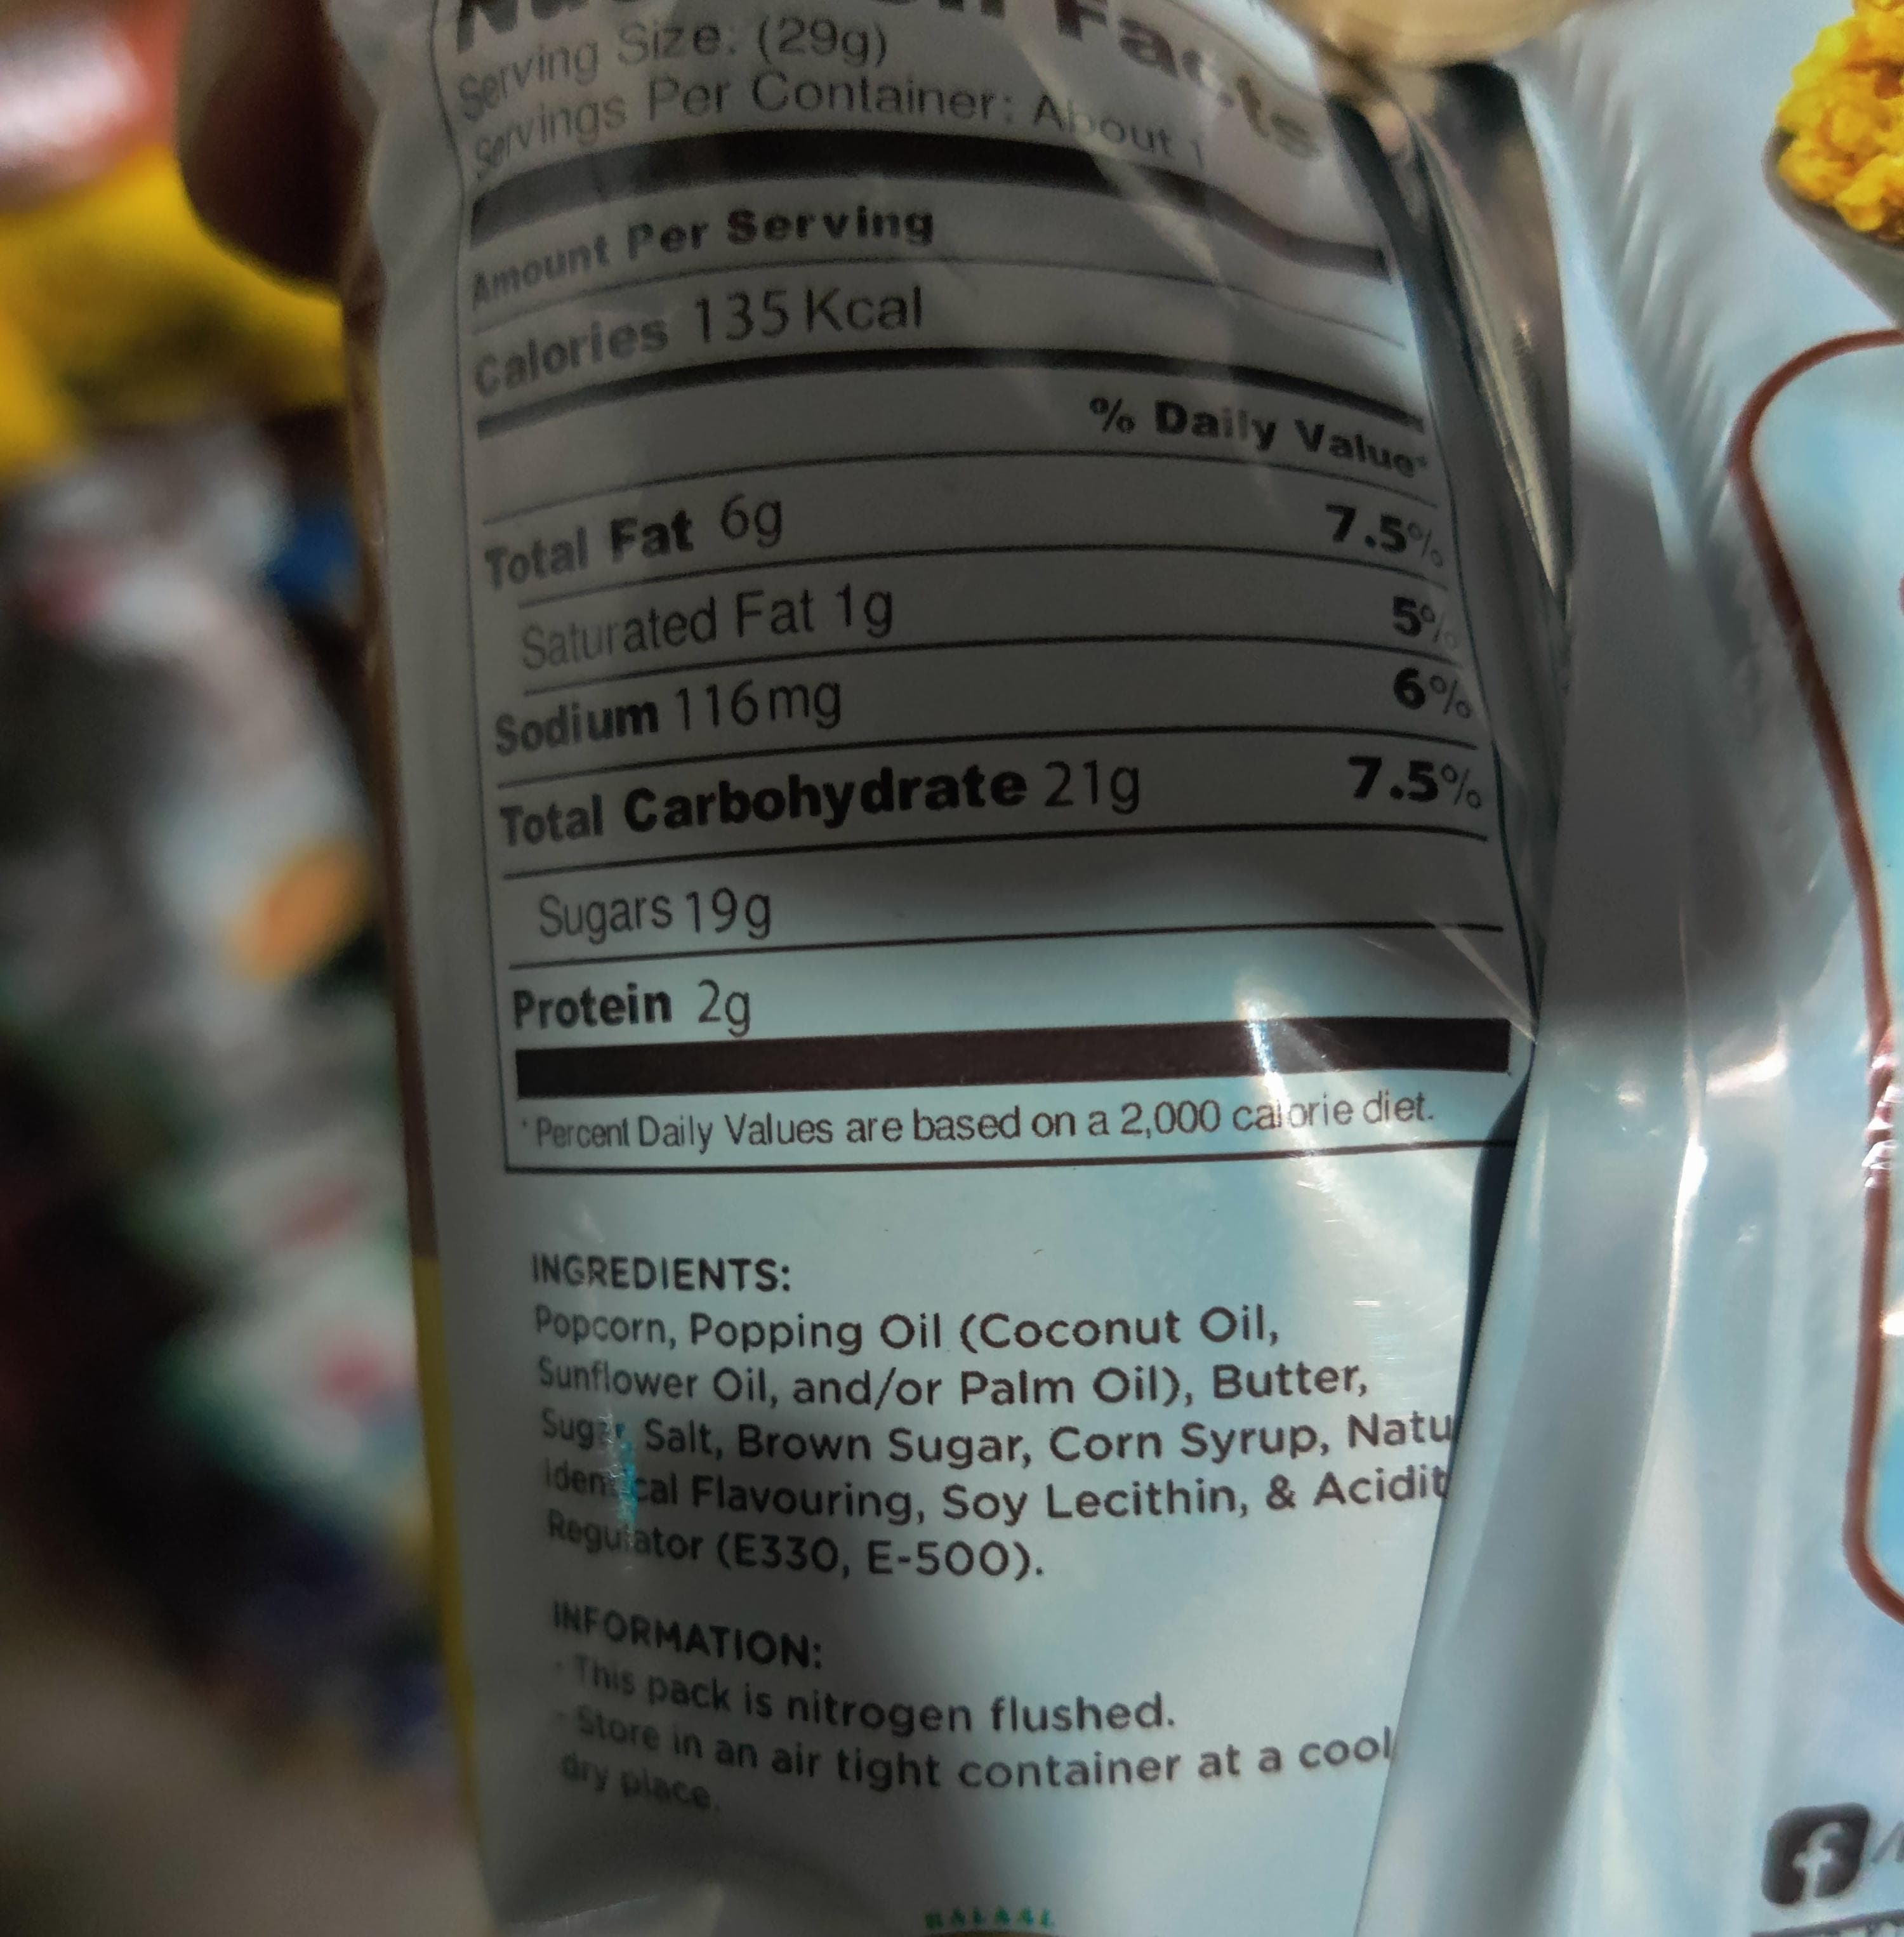table: (420, 0, 1555, 1182)
